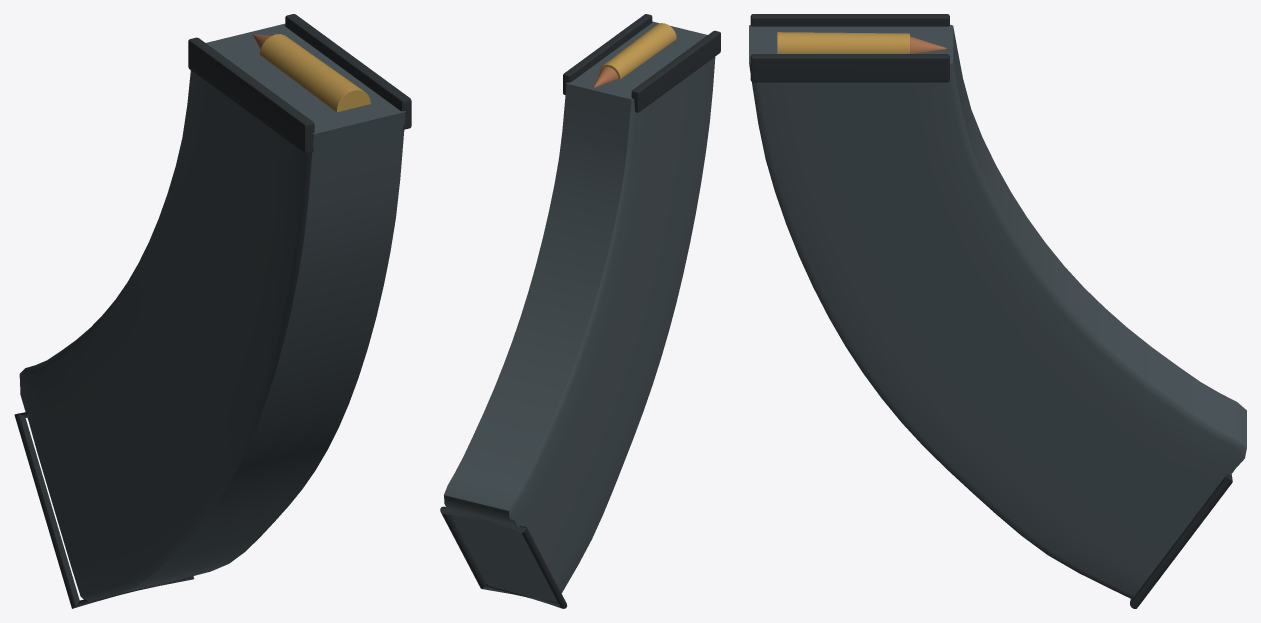
Rendered from magazine.fbx.
3 renders of one model, left to right at view 1: azimuth 30°, elevation 25°; view 2: azimuth 150°, elevation 25°; view 3: azimuth 270°, elevation 25°, orthographic. The views are drawn at different scales.
Parts seen in each view (by area): view 1: weapon_akm_magazine; view 2: weapon_akm_magazine; view 3: weapon_akm_magazine.
Boxes of the visible parts, x1=… form: weapon_akm_magazine: x1=14, y1=14, x2=411, y2=608; weapon_akm_magazine: x1=440, y1=14, x2=720, y2=608; weapon_akm_magazine: x1=749, y1=14, x2=1246, y2=608.
Size of the model in its own units: 3.36 by 17.45 by 14.18.
